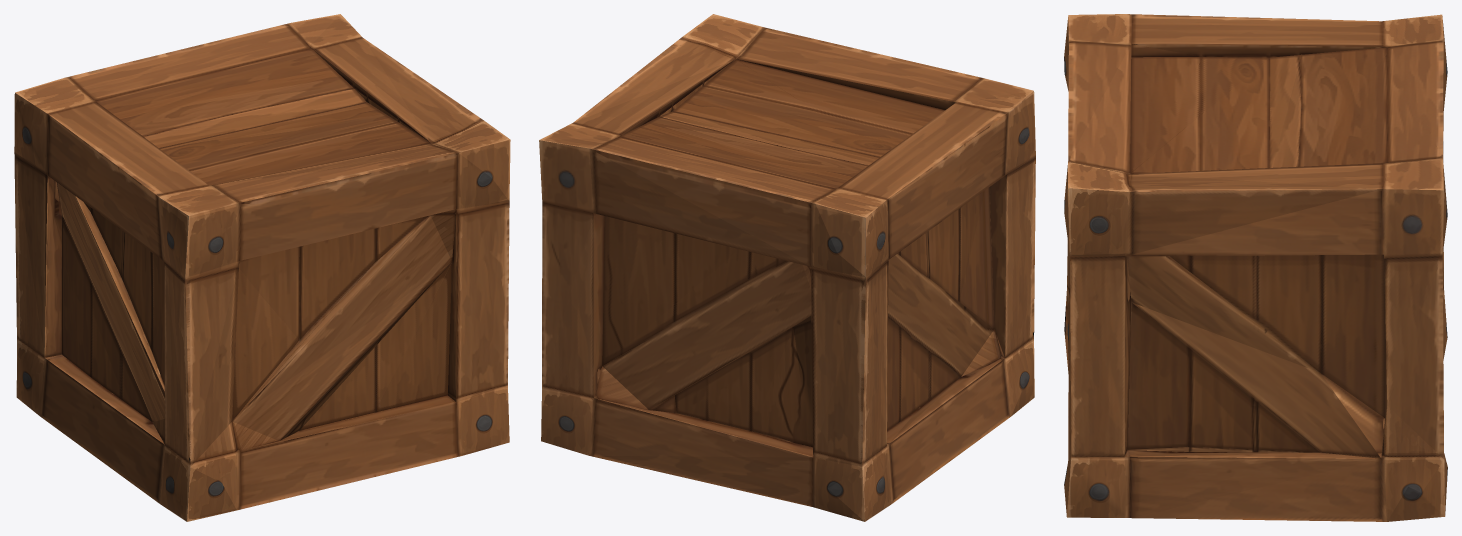
File: wooden_crate_300tri.glb
3 views of the same model, side by side, from view 1: azimuth 30°, elevation 25°; view 2: azimuth 150°, elevation 25°; view 3: azimuth 270°, elevation 25° (orthographic). The views are drawn at different scales.
Parts seen in each view (by area): view 1: output_unwrapped; view 2: output_unwrapped; view 3: output_unwrapped.
Boxes of the visible parts, box(x1,y1,x2,y2) form: output_unwrapped: box(14, 14, 510, 521); output_unwrapped: box(539, 14, 1035, 521); output_unwrapped: box(1064, 14, 1447, 521).
Bounding box in the file's own units: 1.9 × 1.68 × 1.74.
Materials: 1 (1 with a texture image).
